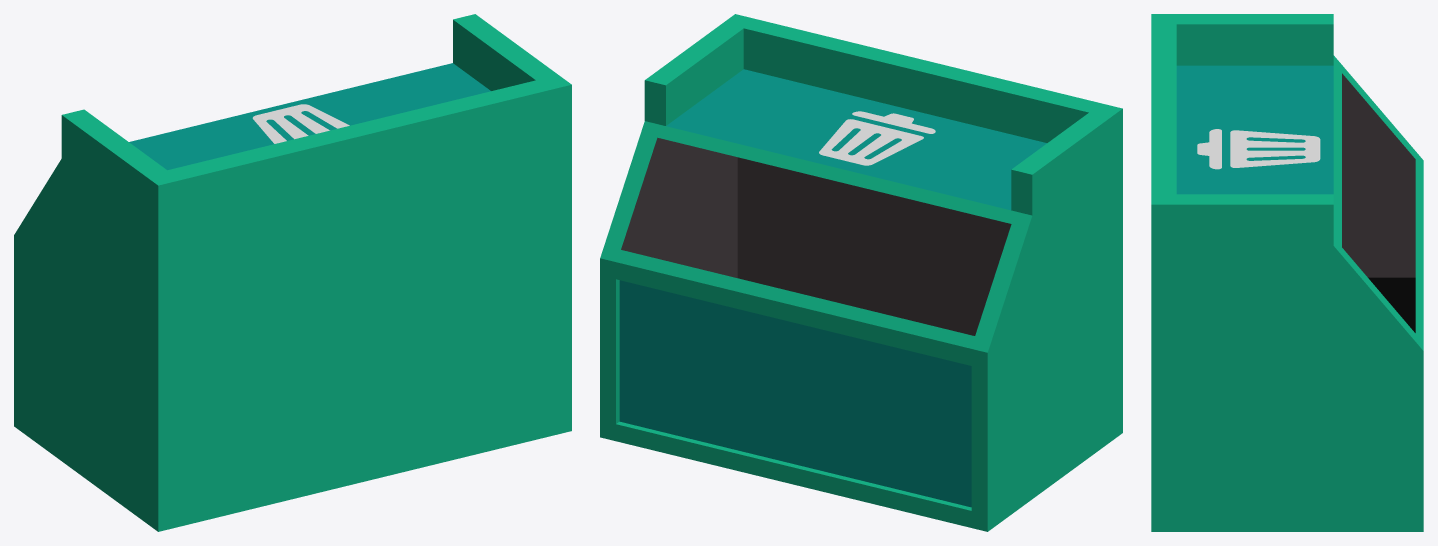
File: Trashbin_geo.fbx
3 renders of one model, left to right at view 1: azimuth 30°, elevation 25°; view 2: azimuth 150°, elevation 25°; view 3: azimuth 270°, elevation 25°, orthographic. The views are drawn at different scales.
Parts seen in each view (by area): view 1: Trashbin_geo; view 2: Trashbin_geo; view 3: Trashbin_geo.
Part boxes in pixels (<box>): Trashbin_geo: <box>14,14,571,531</box>; Trashbin_geo: <box>600,14,1122,531</box>; Trashbin_geo: <box>1151,14,1423,531</box>.
Size of the model in its own units: 1.34 by 0.8102 by 1.07.
